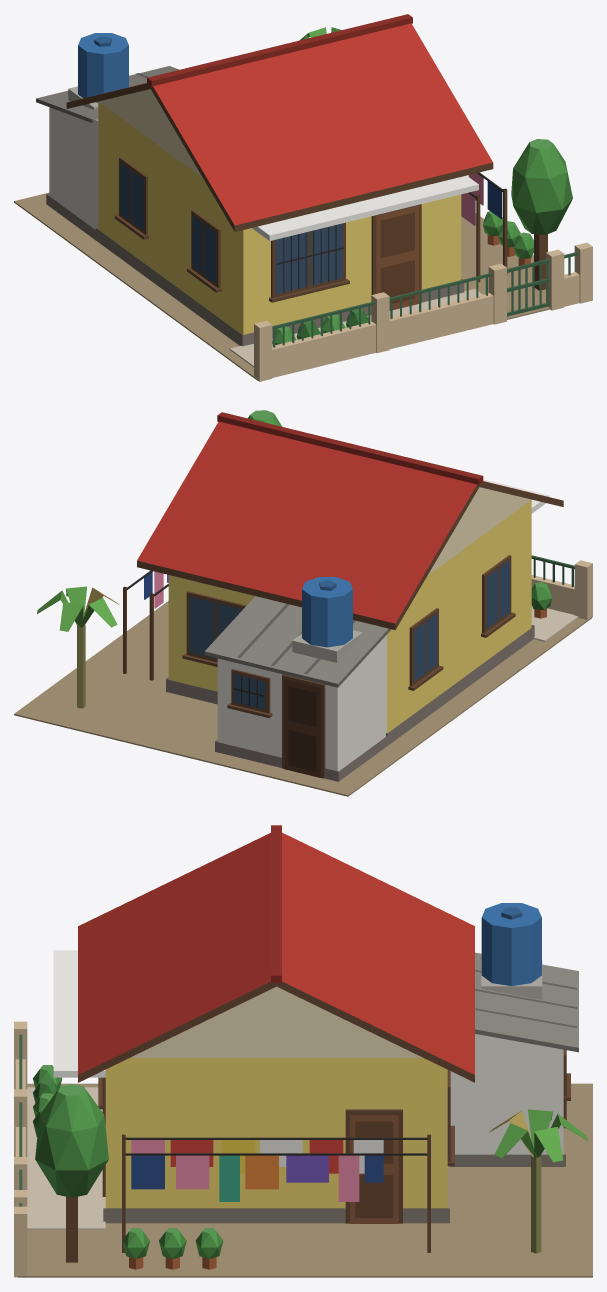
The model's file is rumah_04.glb.
3 renders of one model, top to bottom at view 1: azimuth 30°, elevation 25°; view 2: azimuth 150°, elevation 25°; view 3: azimuth 270°, elevation 25°, orthographic. The views are drawn at different scales.
Visible parts, largest first — view 1: rumah_04; view 2: rumah_04; view 3: rumah_04.
Boxes of the visible parts, x1=… form: rumah_04: x1=14, y1=14, x2=592, y2=381; rumah_04: x1=14, y1=410, x2=592, y2=796; rumah_04: x1=14, y1=825, x2=592, y2=1277.
Bounding box in the file's own units: 7.46 × 4.71 × 9.48.
